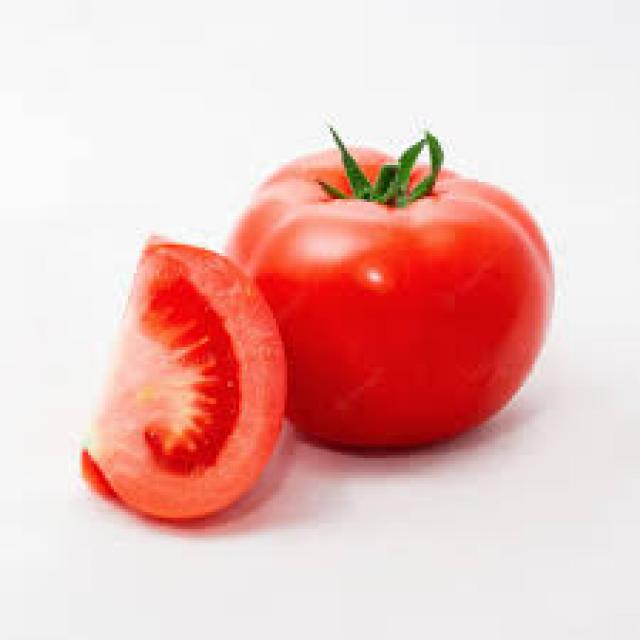tomato: (222, 128, 560, 458)
